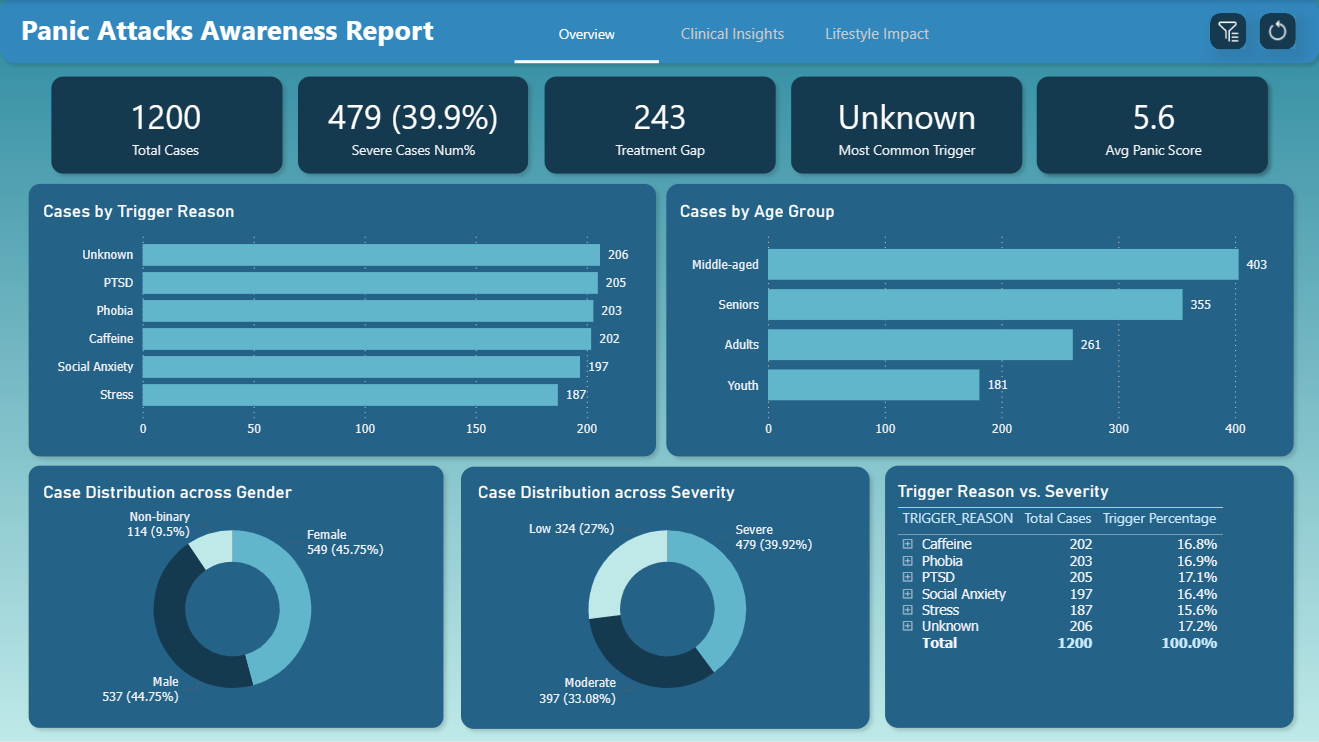

The page's visual inventory and layout, read from the dashboard file:
{"tool":"powerbi","page":{"name":"Overview","canvas":[1280,720],"ordinal":0},"visuals":[{"type":"donutChart","title":"Case Distribution across Gender","fields":{"Category":["PANIC_ATTACK_DATA.GENDER"],"Y":["_Measures.Total Cases"]},"box":[37.9,462,376.1,233.5],"z":0},{"type":"card","fields":{"Values":["_Measures.Average Panic Score"]},"box":[1011,78.3,215.8,85.8],"z":1000},{"type":"card","fields":{"Values":["_Measures.Severe Panic Label"]},"box":[294.1,78.3,214.6,85.8],"z":2000},{"type":"card","fields":{"Values":["_Measures.Most Common Trigger"]},"box":[772.5,78.3,214.6,85.8],"z":3000},{"type":"card","fields":{"Values":["_Measures.Total Cases"]},"box":[53,78.3,215.8,85.8],"z":4000},{"type":"clusteredBarChart","title":"Cases by Age Group","fields":{"Category":["PANIC_ATTACK_DATA.AGE_GROUPS"],"Y":["_Measures.Total Cases"]},"box":[655.1,189.3,593.2,243.6],"z":5000},{"type":"clusteredBarChart","title":"Cases by Trigger Reason","fields":{"Category":["PANIC_ATTACK_DATA.TRIGGER_REASON"],"Y":["_Measures.Total Cases"]},"box":[37.9,189.3,590.7,243.6],"z":6000},{"type":"pivotTable","title":"Trigger Reason vs. Severity","fields":{"Rows":["PANIC_ATTACK_DATA.TRIGGER_REASON","PANIC_ATTACK_DATA.Panic Score Categories"],"Values":["_Measures.Total Cases","_Measures.Trigger Percentage"]},"box":[865.9,460.7,382.4,233.5],"z":7000},{"type":"card","fields":{"Values":["_Measures.Treatment Gap"]},"box":[532.6,78.3,215.8,85.8],"z":8000},{"type":"textbox","box":[16.4,5,443,64.4],"z":9000},{"type":"donutChart","title":"Case Distribution across Severity","fields":{"Category":["PANIC_ATTACK_DATA.Panic Score Categories"],"Y":["_Measures.Total Cases"]},"box":[459.4,462,376.1,233.5],"z":10000},{"type":"pageNavigator","box":[641.2,11.4,140.1,50.5],"z":11000},{"type":"pageNavigator","box":[499.8,11.4,140.1,50.5],"z":12000},{"type":"actionButton","box":[1221.8,12.6,35.3,35.3],"z":12500},{"type":"actionButton","box":[1173.8,12.6,35.3,35.3],"z":13000},{"type":"pageNavigator","box":[781.3,11.4,140.1,50.5],"z":42002}]}

Visuals, with their boxes in screenshot pixels (x1, y1, x2, y2), scaled from the page's 1280x720 canvas onto the 1319x742 screenshot:
"Case Distribution across Gender" donutChart: x1=39 y1=476 x2=427 y2=717
card - _Measures.Average Panic Score: x1=1042 y1=81 x2=1264 y2=169
card - _Measures.Severe Panic Label: x1=303 y1=81 x2=524 y2=169
card - _Measures.Most Common Trigger: x1=796 y1=81 x2=1017 y2=169
card - _Measures.Total Cases: x1=55 y1=81 x2=277 y2=169
"Cases by Age Group" clusteredBarChart: x1=675 y1=195 x2=1286 y2=446
"Cases by Trigger Reason" clusteredBarChart: x1=39 y1=195 x2=648 y2=446
"Trigger Reason vs. Severity" pivotTable: x1=892 y1=475 x2=1286 y2=715
card - _Measures.Treatment Gap: x1=549 y1=81 x2=771 y2=169
textbox: x1=17 y1=5 x2=473 y2=72
"Case Distribution across Severity" donutChart: x1=473 y1=476 x2=861 y2=717
pageNavigator: x1=661 y1=12 x2=805 y2=64
pageNavigator: x1=515 y1=12 x2=659 y2=64
actionButton: x1=1259 y1=13 x2=1295 y2=49
actionButton: x1=1210 y1=13 x2=1246 y2=49
pageNavigator: x1=805 y1=12 x2=949 y2=64
